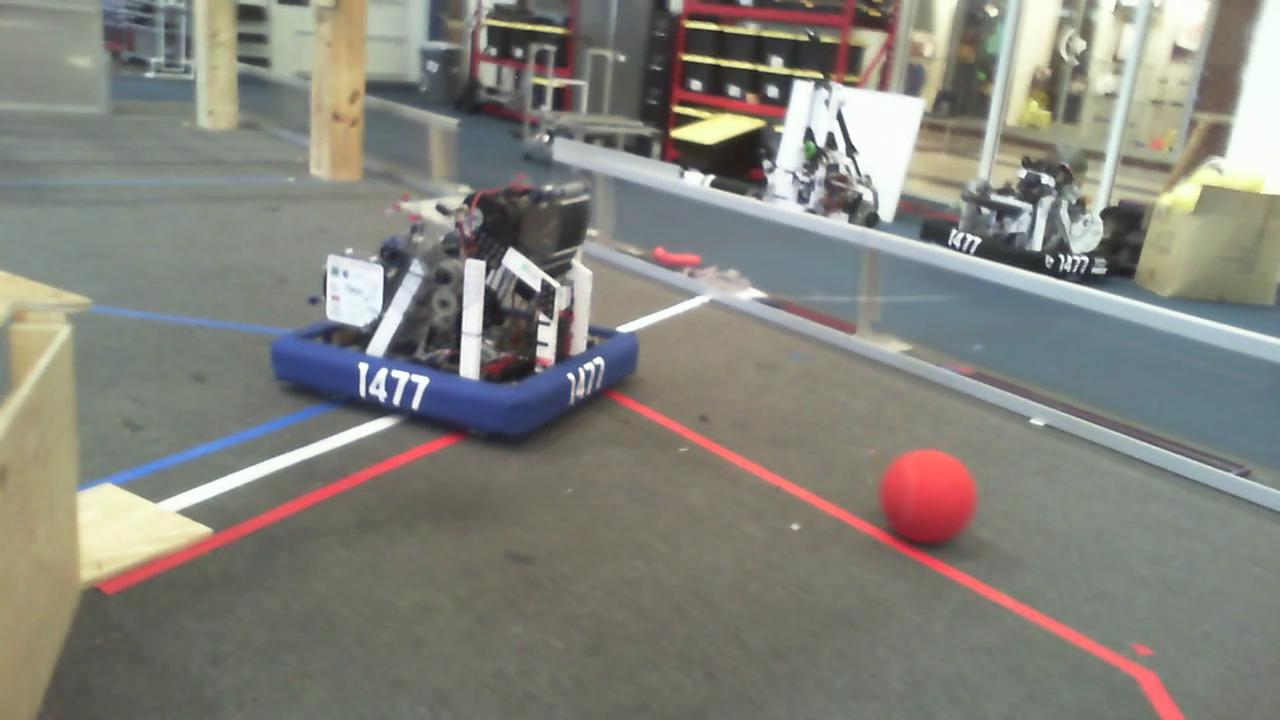robot: (272, 178, 637, 441), (920, 153, 1115, 280)
